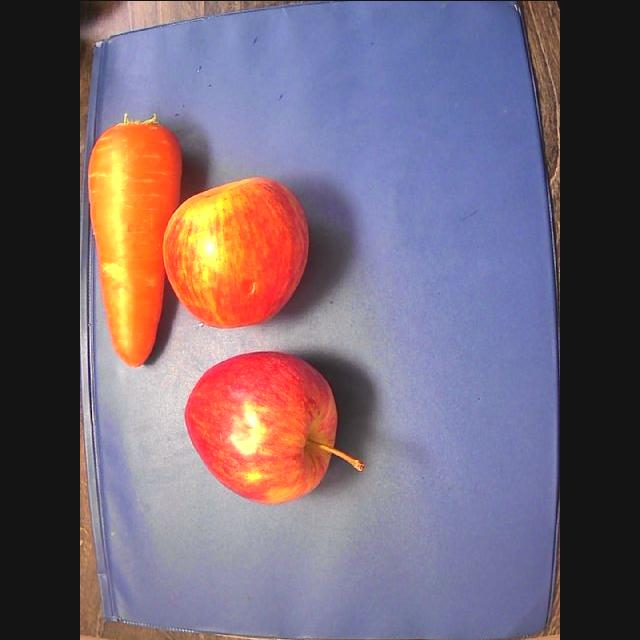manzana: (185, 351, 363, 503), (163, 177, 308, 327)
zanahoria: (88, 115, 180, 365)
